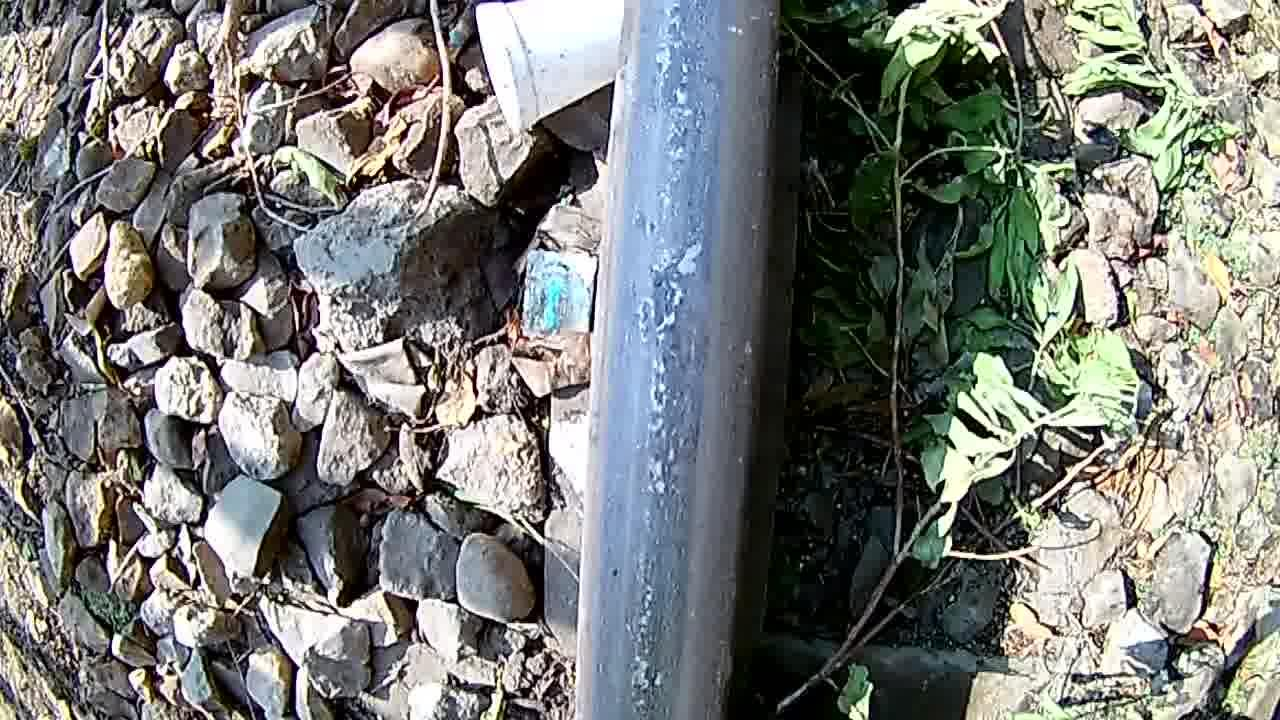crack: (580, 1, 776, 720)
